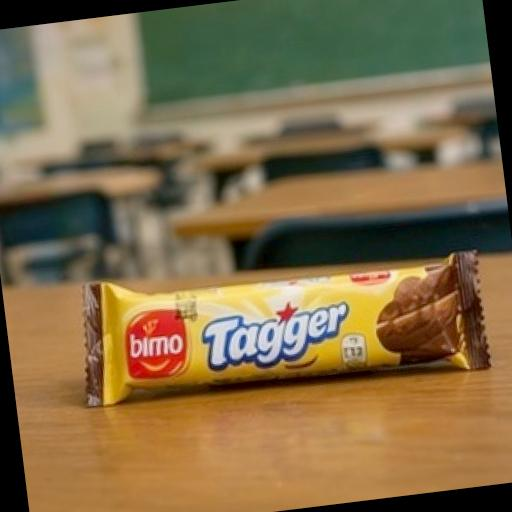tagger: (36, 198, 512, 466)
